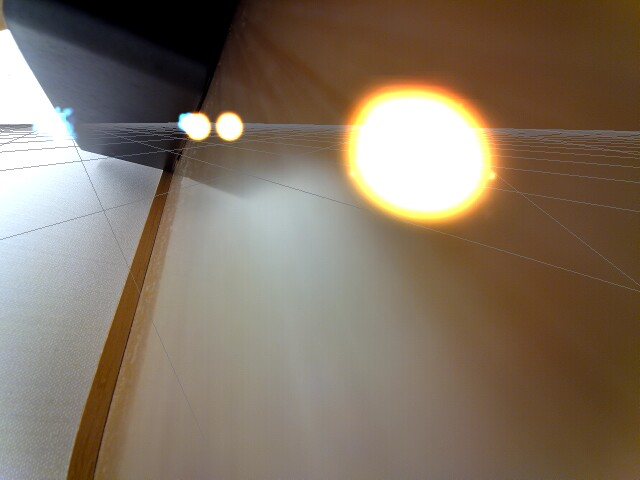firebig: (335, 84, 550, 266)
